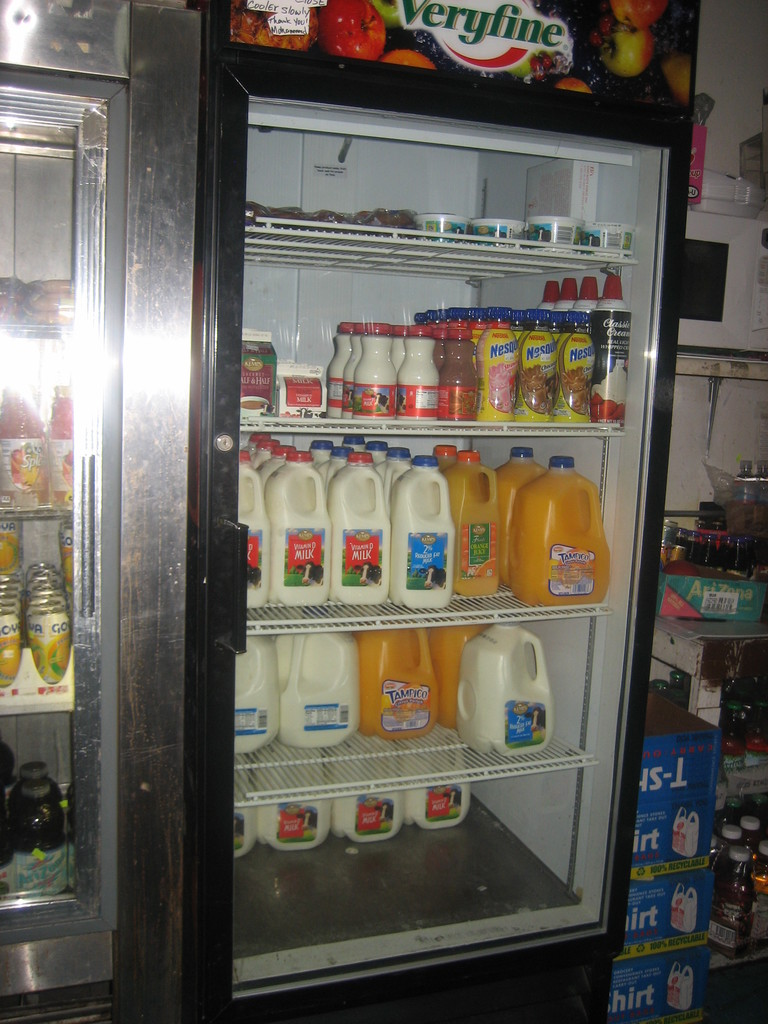Refrigerator: (0, 0, 701, 1023), (0, 0, 205, 1023)
